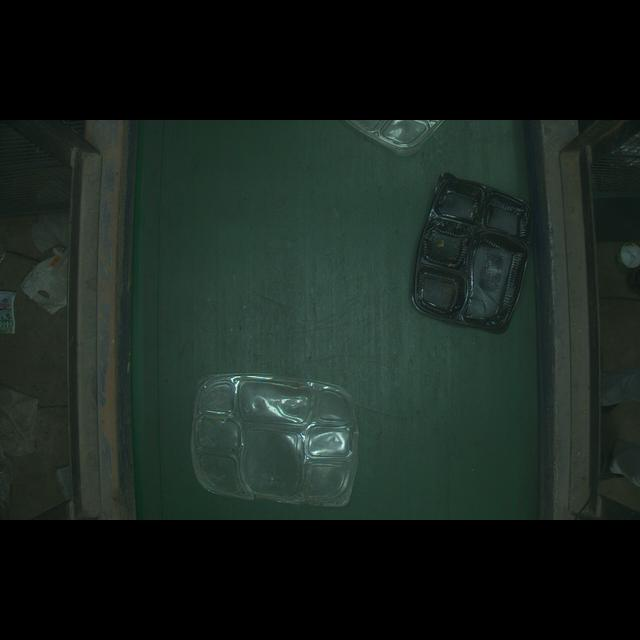mix rigid: (184, 363, 367, 507), (419, 160, 533, 335)
